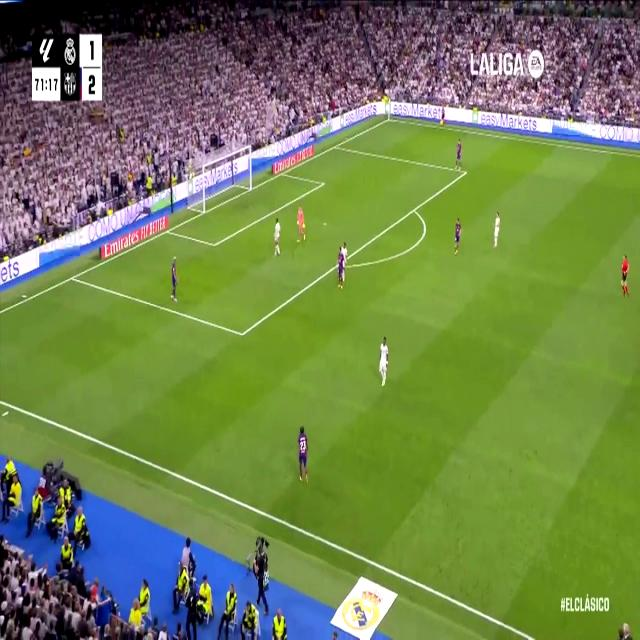bigarea_bottom_inner: (238, 322, 246, 344)
bigarea_bottom_outter: (68, 269, 77, 285)
bigarea_top_inner: (462, 165, 468, 178)
bigarea_top_outter: (332, 140, 338, 151)
corner: (385, 114, 392, 124)
smallarea_bottom_inner: (211, 235, 219, 252)
smallarea_top_inner: (321, 178, 325, 188)
top_arc_area_intersection: (410, 202, 418, 216)
